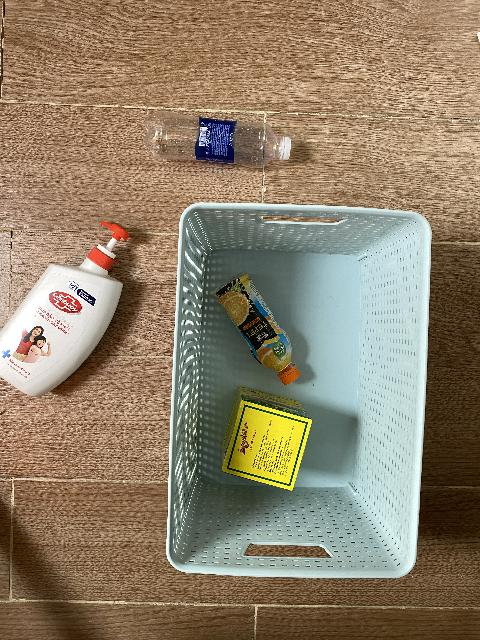aquafina: (143, 111, 291, 169)
cart: (166, 202, 432, 579)
life-buoy: (0, 221, 130, 398)
luong_kho: (222, 386, 313, 491)
teppy_orange_juice: (213, 271, 300, 385)
